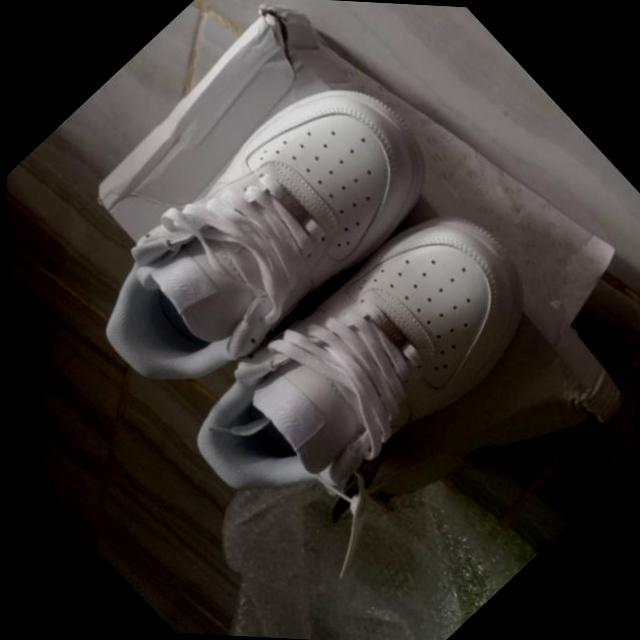nike_original_airforce: (44, 22, 459, 441), (158, 160, 564, 572)
